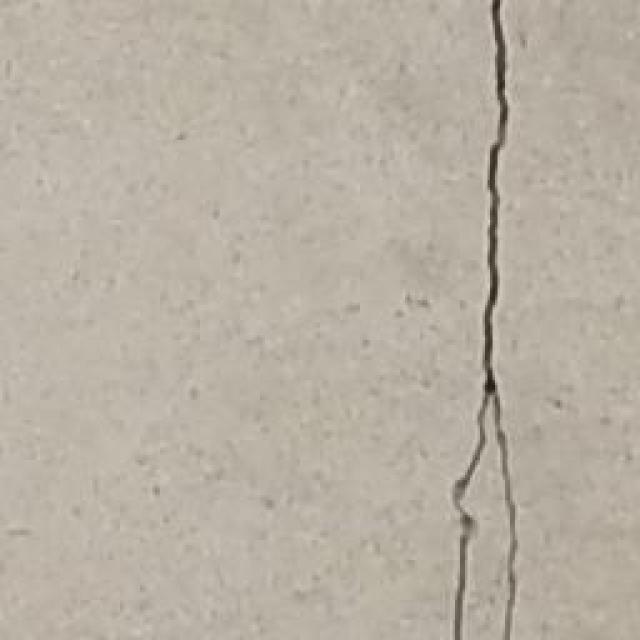concrete-crack: (445, 0, 520, 640)
